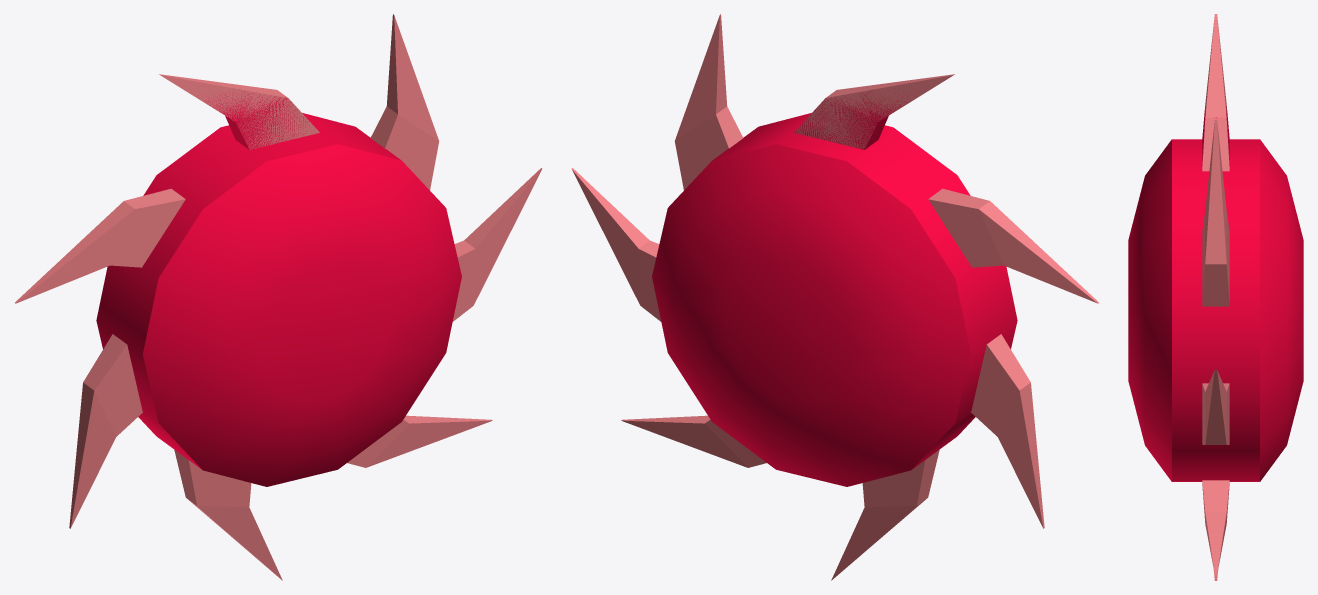
The model's file is Trap.fbx.
3 views of the same model, side by side, from view 1: azimuth 30°, elevation 25°; view 2: azimuth 150°, elevation 25°; view 3: azimuth 270°, elevation 25° (orthographic). The views are drawn at different scales.
Visible parts, largest first — view 1: Trap; view 2: Trap; view 3: Trap.
Boxes of the visible parts, x1,y1,x2,y2 form: Trap: (15, 14, 542, 580); Trap: (571, 14, 1098, 580); Trap: (1128, 14, 1303, 580).
Size of the model in its own units: 0.4016 by 0.3926 by 0.1216.
